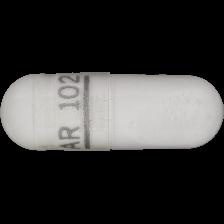53489-700: (0, 0, 224, 224)
